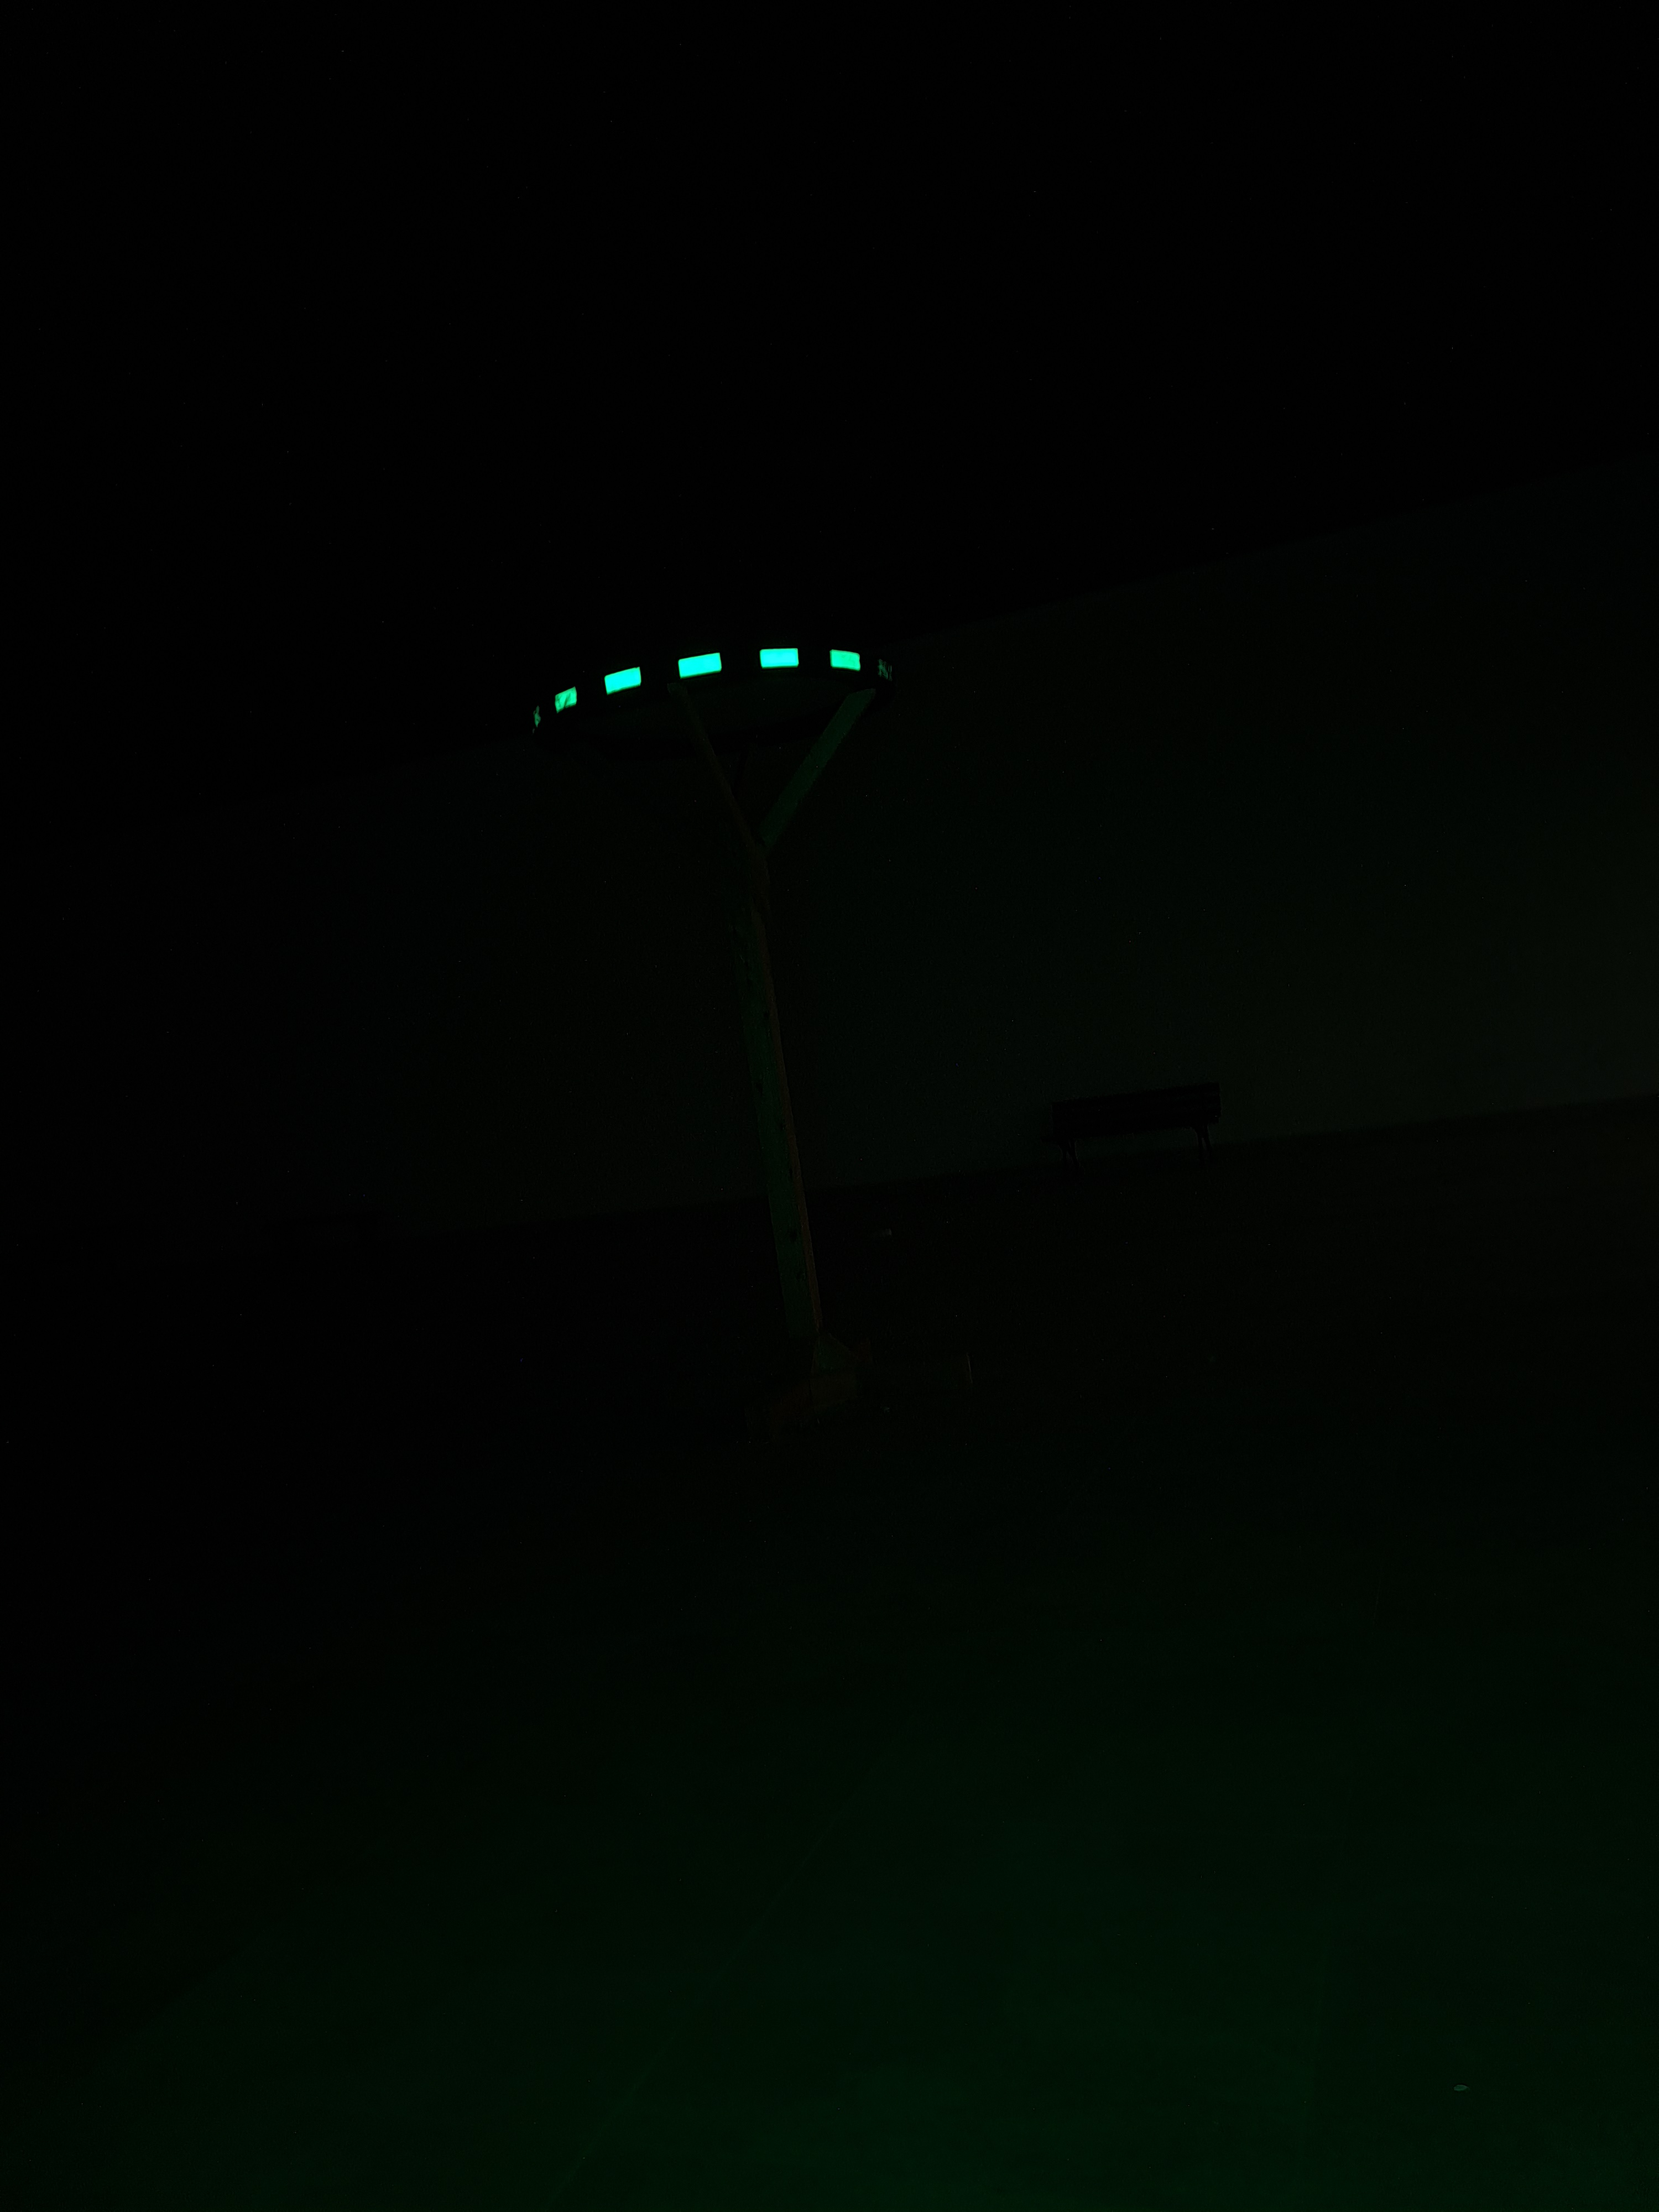hoop: (528, 643, 890, 732)
